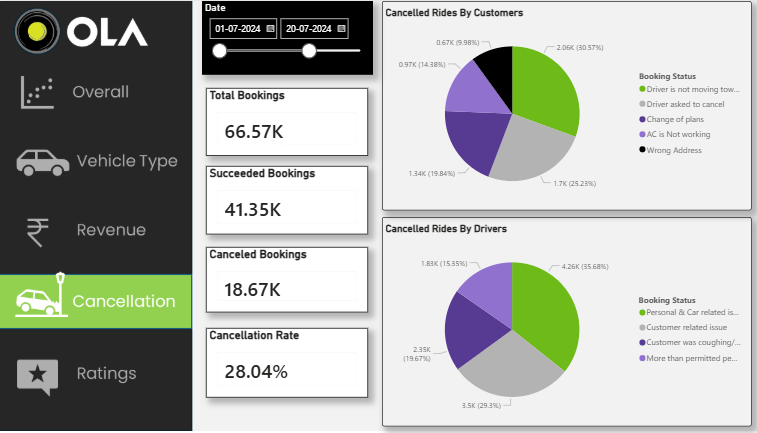

The page's visual inventory and layout, read from the dashboard file:
{"tool":"powerbi","page":{"name":"Cancellation","canvas":[1280,720],"ordinal":3},"visuals":[{"type":"actionButton","box":[0,230.4,324,90.7],"z":0},{"type":"actionButton","box":[0,348.5,324,90.7],"z":1000},{"type":"actionButton","box":[0,583.2,324,90.7],"z":2000},{"type":"actionButton","box":[0,110.9,324,90.7],"z":3000},{"type":"pieChart","title":"Cancelled Rides By Customers","fields":{"Y":["CountNonNull(July.Booking_Status)"],"Category":["July.Canceled_Rides_by_Customer"]},"box":[640,0,616.3,348.8],"z":4000},{"type":"pieChart","title":"Cancelled Rides By Drivers","fields":{"Y":["CountNonNull(July.Canceled_Rides_by_Driver)"],"Category":["July.Canceled_Rides_by_Driver"]},"box":[640,360,615.7,348.6],"z":5000},{"type":"slicer","title":"Date","fields":{"Values":["July.Date"]},"box":[340.5,0,285.1,123.1],"z":6000},{"type":"cardVisual","title":"    Total Bookings","fields":{"Data":["CountNonNull(July.Booking_ID)"]},"box":[347.1,145.7,270,112.9],"z":7000},{"type":"cardVisual","title":"Succeeded Bookings ","fields":{"Data":["CountNonNull(July.Booking_ID)"]},"box":[347.1,275.7,270,114.3],"z":8000},{"type":"cardVisual","title":"Canceled Bookings","fields":{"Data":["CountNonNull(July.Booking_ID)"]},"box":[347.1,410,270,108.6],"z":9000},{"type":"cardVisual","title":"Cancellation Rate","fields":{"Data":["July.CanceledBookingPercentage"]},"box":[347.1,545.7,270,115.7],"z":10000}]}

Visuals, with their boxes on the page's 1280x720 design canvas (x1, y1, x2, y2). These are canvas units, not pixel positions in the 757x433 screenshot, which may show the page scaled, cropped or inside an application window:
actionButton: box(0, 230, 324, 321)
actionButton: box(0, 348, 324, 439)
actionButton: box(0, 583, 324, 674)
actionButton: box(0, 111, 324, 202)
"Cancelled Rides By Customers" pieChart: box(640, 0, 1256, 349)
"Cancelled Rides By Drivers" pieChart: box(640, 360, 1256, 709)
"Date" slicer: box(340, 0, 626, 123)
"    Total Bookings" cardVisual: box(347, 146, 617, 259)
"Succeeded Bookings " cardVisual: box(347, 276, 617, 390)
"Canceled Bookings" cardVisual: box(347, 410, 617, 519)
"Cancellation Rate" cardVisual: box(347, 546, 617, 661)
